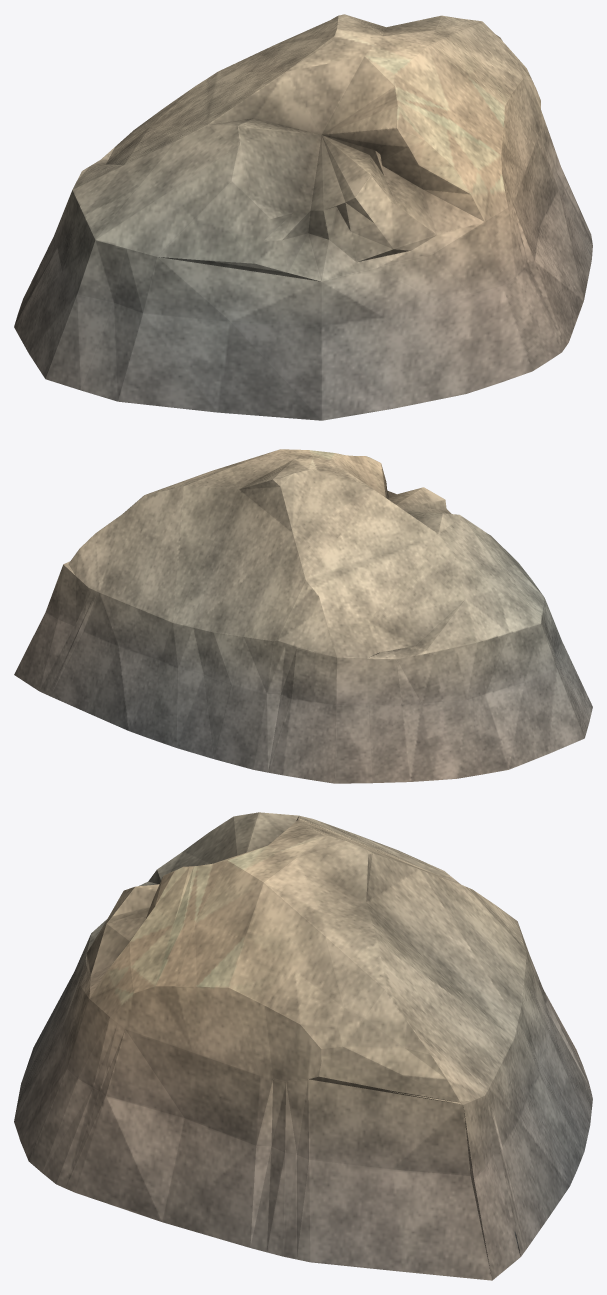
File: shore-rock-0.glb
3 renders of one model, top to bottom at view 1: azimuth 30°, elevation 25°; view 2: azimuth 150°, elevation 25°; view 3: azimuth 270°, elevation 25°, orthographic. The views are drawn at different scales.
Visible parts, largest first — view 1: Shore boulder 0; view 2: Shore boulder 0; view 3: Shore boulder 0.
Boxes of the visible parts, x1=… form: Shore boulder 0: x1=14, y1=14, x2=592, y2=420; Shore boulder 0: x1=14, y1=449, x2=592, y2=783; Shore boulder 0: x1=14, y1=812, x2=592, y2=1280.
Bounding box in the file's own units: 3 × 1.26 × 2.27.
1 material, 1 textured.
